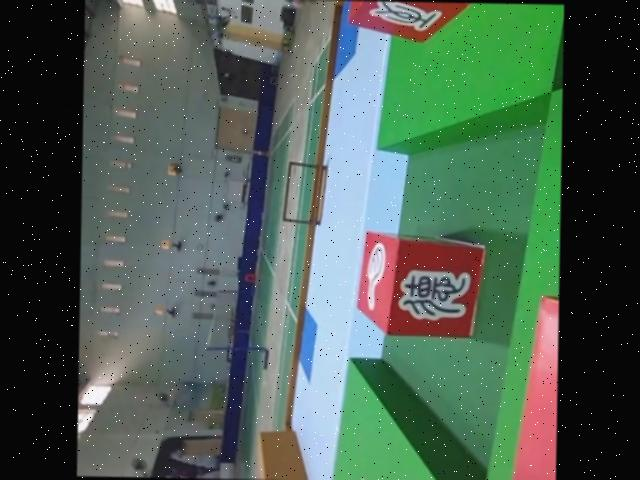R2 Fake: (354, 228, 484, 340), (344, 1, 483, 42)
